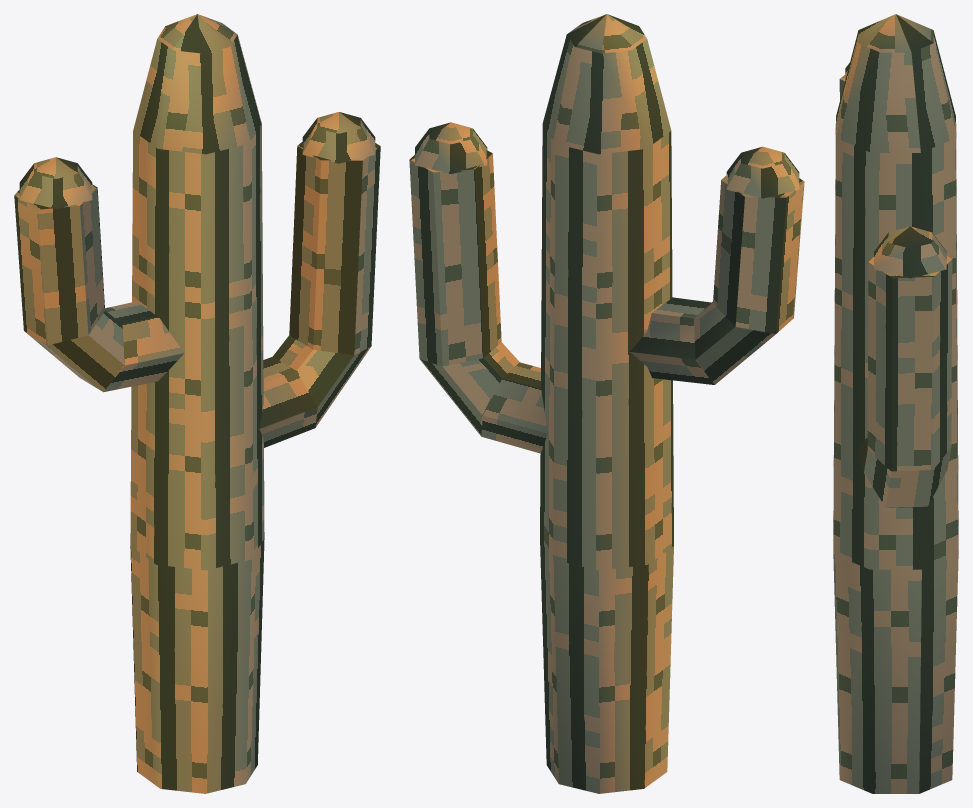
File: wprop.cactus__tall.glb
3 renders of one model, left to right at view 1: azimuth 30°, elevation 25°; view 2: azimuth 150°, elevation 25°; view 3: azimuth 270°, elevation 25°, orthographic.
Parts seen in each view (by area): view 1: kit_trunk, kit_arms, kit_tips; view 2: kit_trunk, kit_arms, kit_tips; view 3: kit_trunk, kit_arms, kit_tips.
Part boxes in pixels (x1,y1,x2,y2): kit_trunk: (130, 14, 264, 793); kit_arms: (14, 141, 380, 447); kit_tips: (19, 112, 375, 208); kit_trunk: (540, 14, 673, 793); kit_arms: (409, 150, 804, 453); kit_tips: (415, 122, 799, 198); kit_trunk: (833, 14, 958, 793); kit_arms: (839, 75, 952, 507); kit_tips: (845, 62, 946, 278).
Size of the model in its own units: 2.36 by 4.6 by 0.6906.
1 material, 1 textured.
